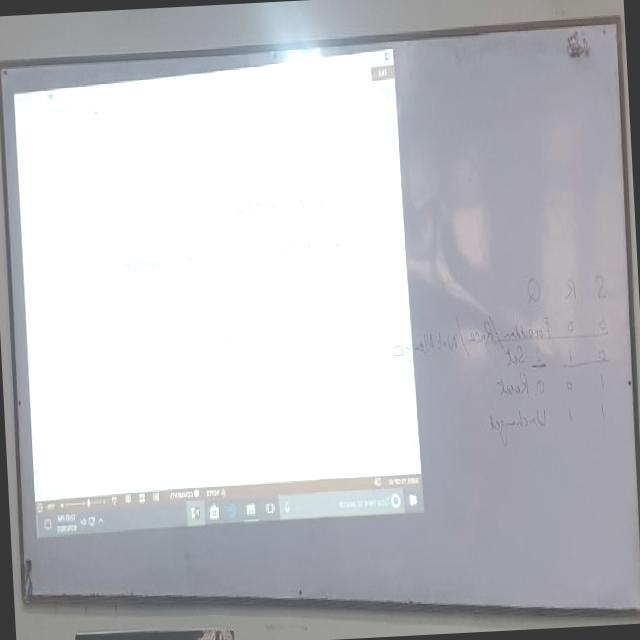Slide: (13, 50, 425, 546)
White-board: (0, 18, 640, 613)
